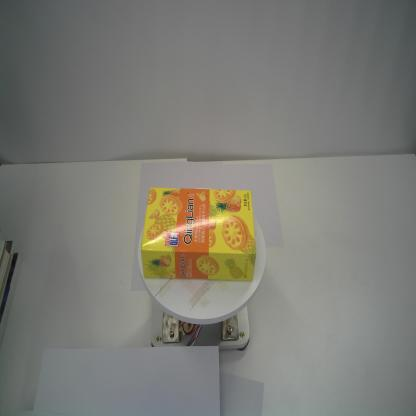Dessert: (140, 187, 256, 282)
